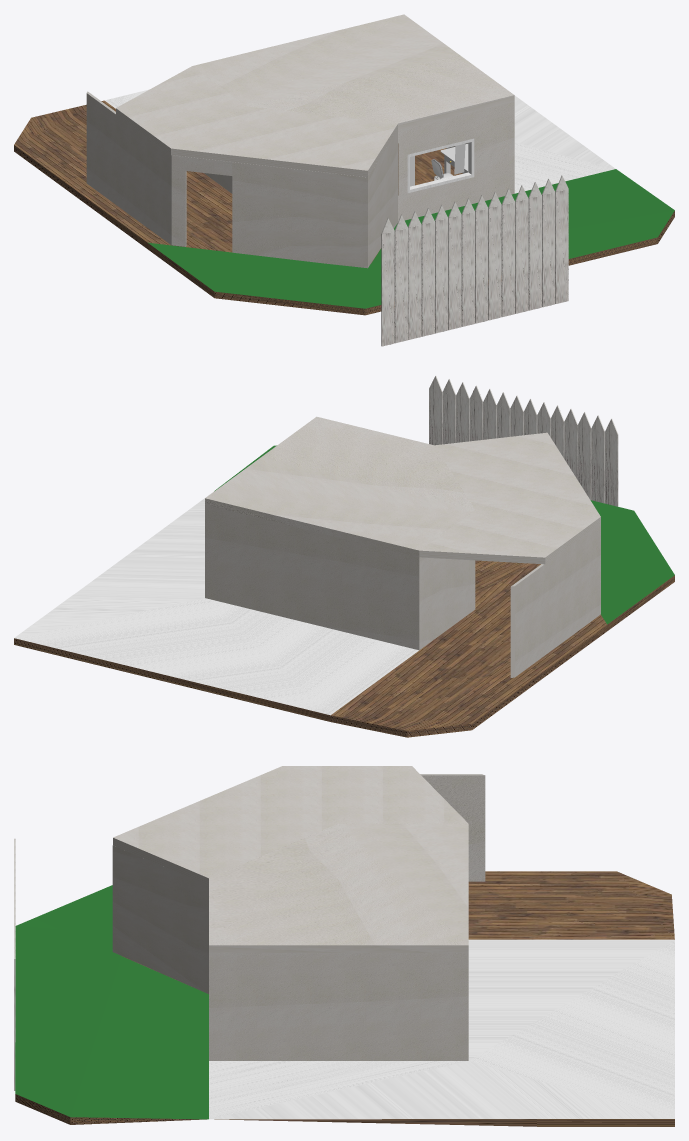
File: 中間夜更かし.fbx
The picture shows the model from 3 angles, top to bottom: view 1: azimuth 30°, elevation 25°; view 2: azimuth 150°, elevation 25°; view 3: azimuth 270°, elevation 25°; orthographic projection. The views are drawn at different scales.
Parts seen in each view (by area): view 1: 部屋, 屋根, 立方体.012, 立方体.001; view 2: 部屋, 屋根, 立方体.012; view 3: 部屋, 屋根.
Boxes of the visible parts, x1,y1,x2,y2 form: 部屋: (14, 89, 674, 315); 屋根: (116, 14, 514, 177); 立方体.012: (381, 175, 568, 346); 立方体.001: (407, 138, 474, 192); 部屋: (14, 445, 674, 737); 屋根: (205, 416, 600, 564); 立方体.012: (429, 375, 618, 506); 部屋: (15, 774, 674, 1126); 屋根: (113, 766, 468, 952).
Size of the model in its own units: 6729 by 2073 by 7643.
Materials: 12 (6 with a texture image).
